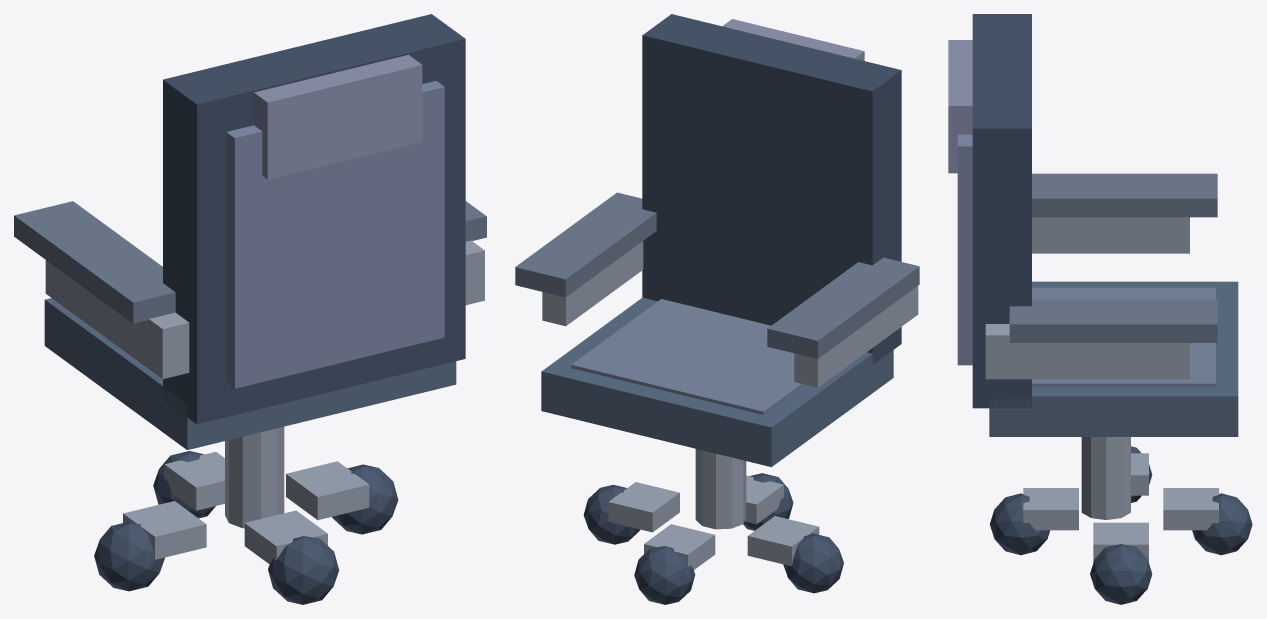
Rendered from ergonomic_chair.glb.
The picture shows the model from 3 angles, left to right: view 1: azimuth 30°, elevation 25°; view 2: azimuth 150°, elevation 25°; view 3: azimuth 270°, elevation 25°; orthographic projection. The views are drawn at different scales.
Parts seen in each view (by area): view 1: world; view 2: world; view 3: world.
Part boxes in pixels (<box>): world: <box>14,14,486,604</box>; world: <box>515,14,919,604</box>; world: <box>948,14,1252,604</box>.
Size of the model in its own units: 0.96 by 1.43 by 0.8187.
